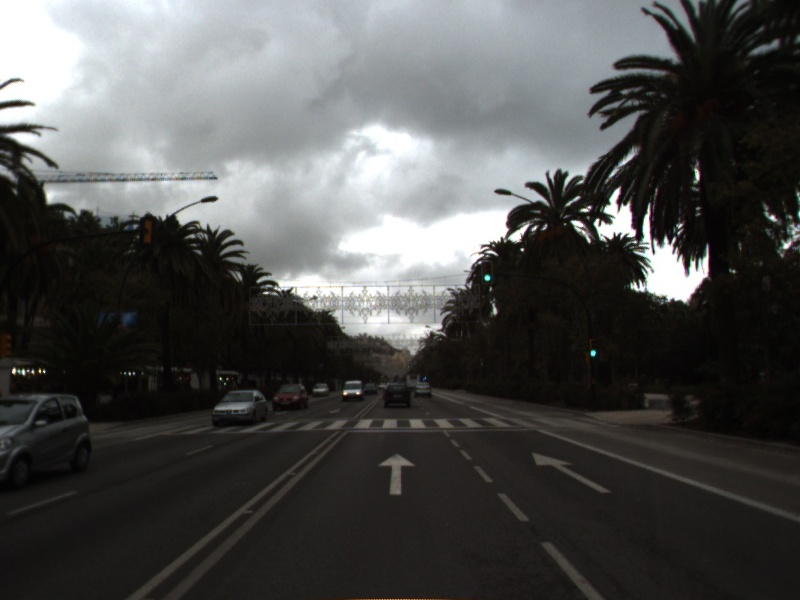STRAIGHT: (530, 450, 614, 495), (376, 451, 418, 497)
